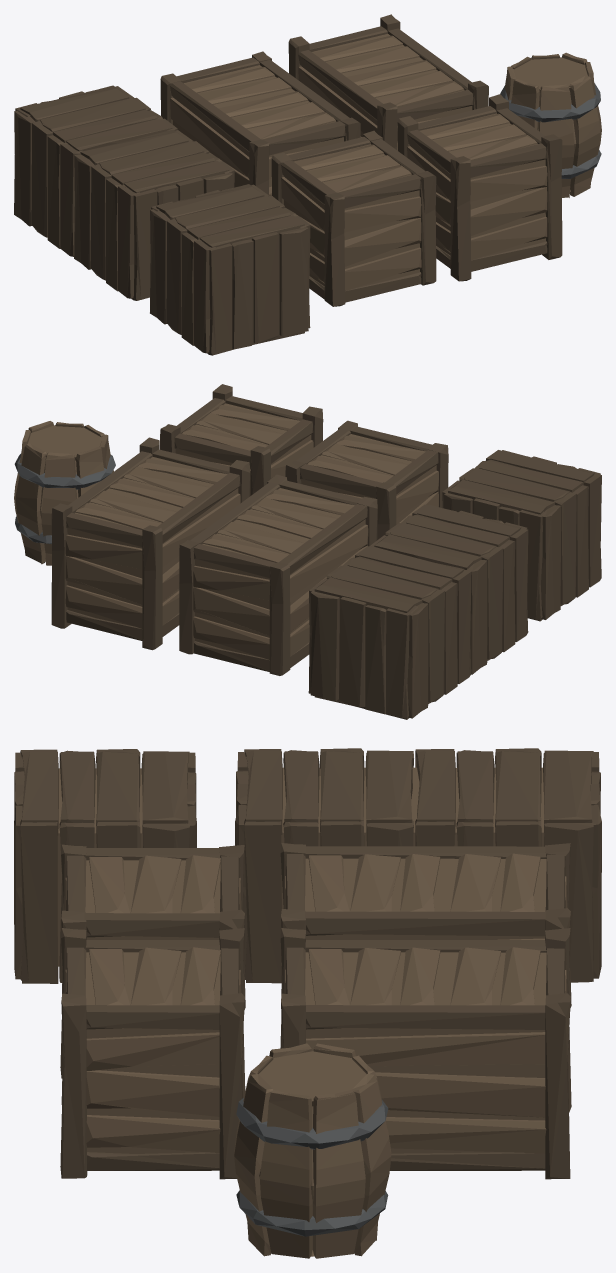
File: boxes.glb
3 renders of one model, top to bottom at view 1: azimuth 30°, elevation 25°; view 2: azimuth 150°, elevation 25°; view 3: azimuth 270°, elevation 25°, orthographic. The views are drawn at different scales.
Parts seen in each view (by area): view 1: box6, box5, box3, box, box4, box2, barrel; view 2: box6, box4, box2, box5, box3, box, barrel; view 3: box2, box6, box, barrel, box4, box5, box3.
Boxes of the visible parts, box(x1,y1,x2,y2) form: box6: box(14, 85, 234, 300); box5: box(150, 184, 310, 355); box3: box(271, 130, 436, 306); box: box(397, 94, 562, 281); box4: box(160, 51, 360, 195); box2: box(288, 14, 488, 150); barrel: box(500, 52, 601, 197); box6: box(308, 504, 528, 719); box4: box(179, 474, 377, 675); box2: box(51, 437, 250, 650); box5: box(442, 450, 601, 621); box3: box(285, 420, 448, 539); box: box(160, 384, 323, 496); barrel: box(14, 421, 115, 565); box2: box(280, 928, 571, 1179); box6: box(235, 748, 601, 983); box: box(60, 928, 245, 1179); barrel: box(234, 1043, 391, 1258); box4: box(280, 843, 571, 1048); box5: box(14, 749, 196, 983); box3: box(60, 844, 245, 1078).
Size of the model in its own units: 3.99 by 0.9582 by 2.77.
